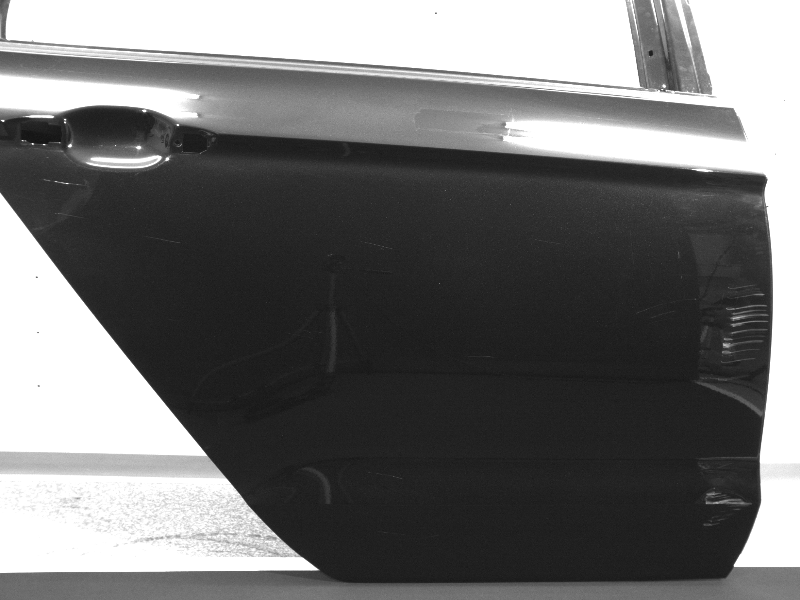scratch: (716, 282, 766, 383), (702, 490, 752, 527), (636, 298, 698, 318), (357, 237, 394, 251), (41, 177, 85, 187), (369, 470, 404, 481), (144, 235, 182, 245), (531, 238, 561, 246), (53, 213, 86, 220), (380, 530, 408, 537), (466, 354, 493, 358)
